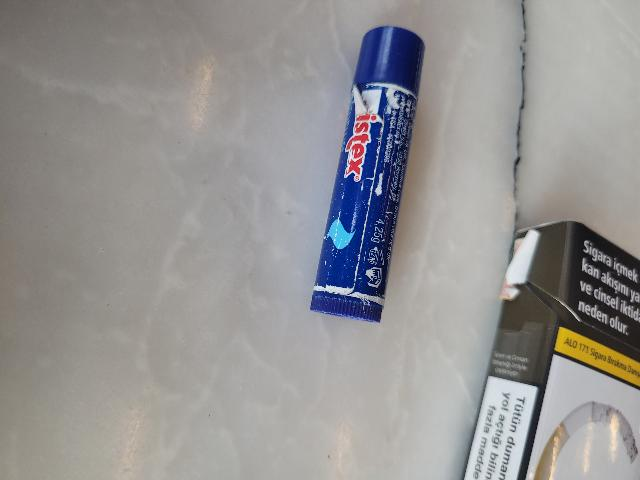Kagit: (455, 217, 640, 480)
Plastik: (310, 21, 429, 328)
